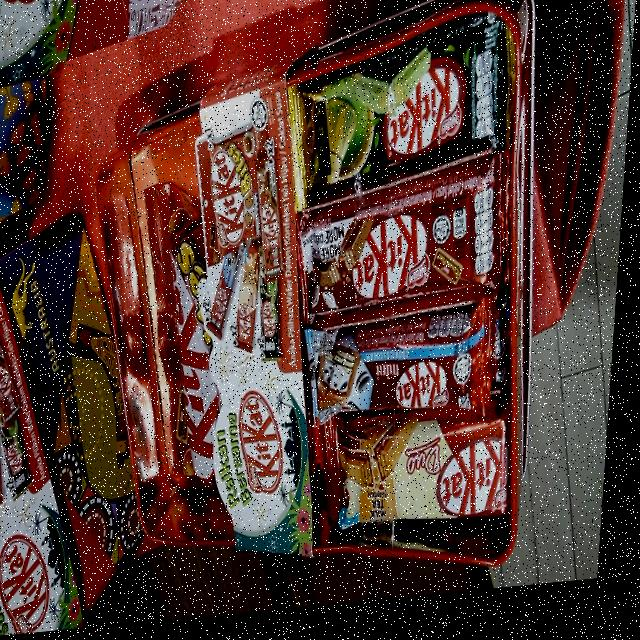kitkat: (290, 59, 519, 210), (294, 197, 514, 327), (320, 414, 520, 540), (309, 319, 502, 431), (194, 128, 267, 275), (254, 155, 290, 283), (262, 261, 289, 381), (241, 251, 269, 366)
